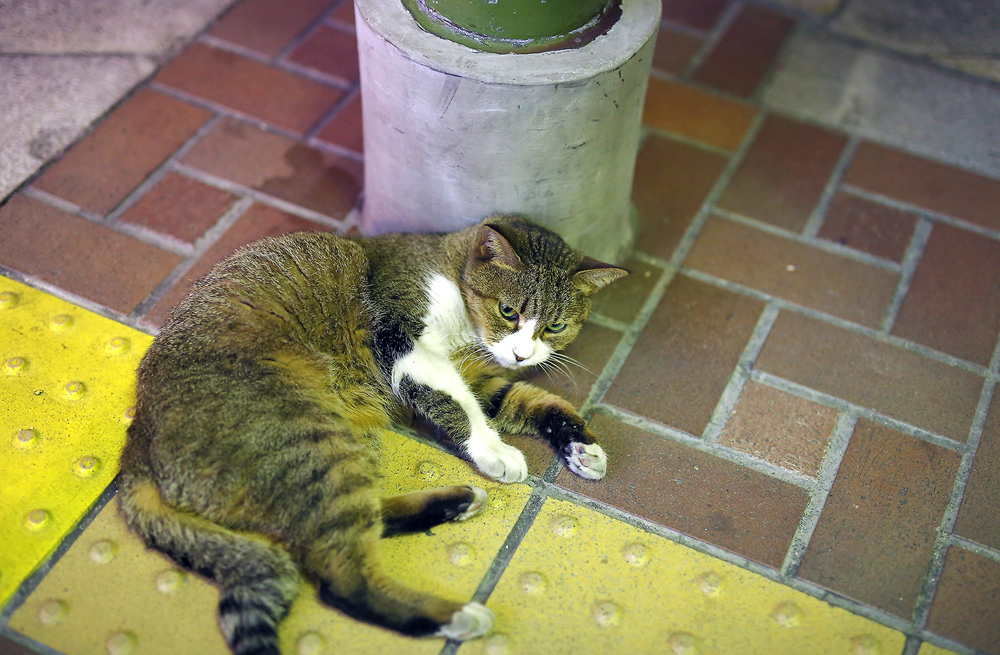cat: (103, 206, 644, 655)
cat-face: (456, 220, 642, 374)
